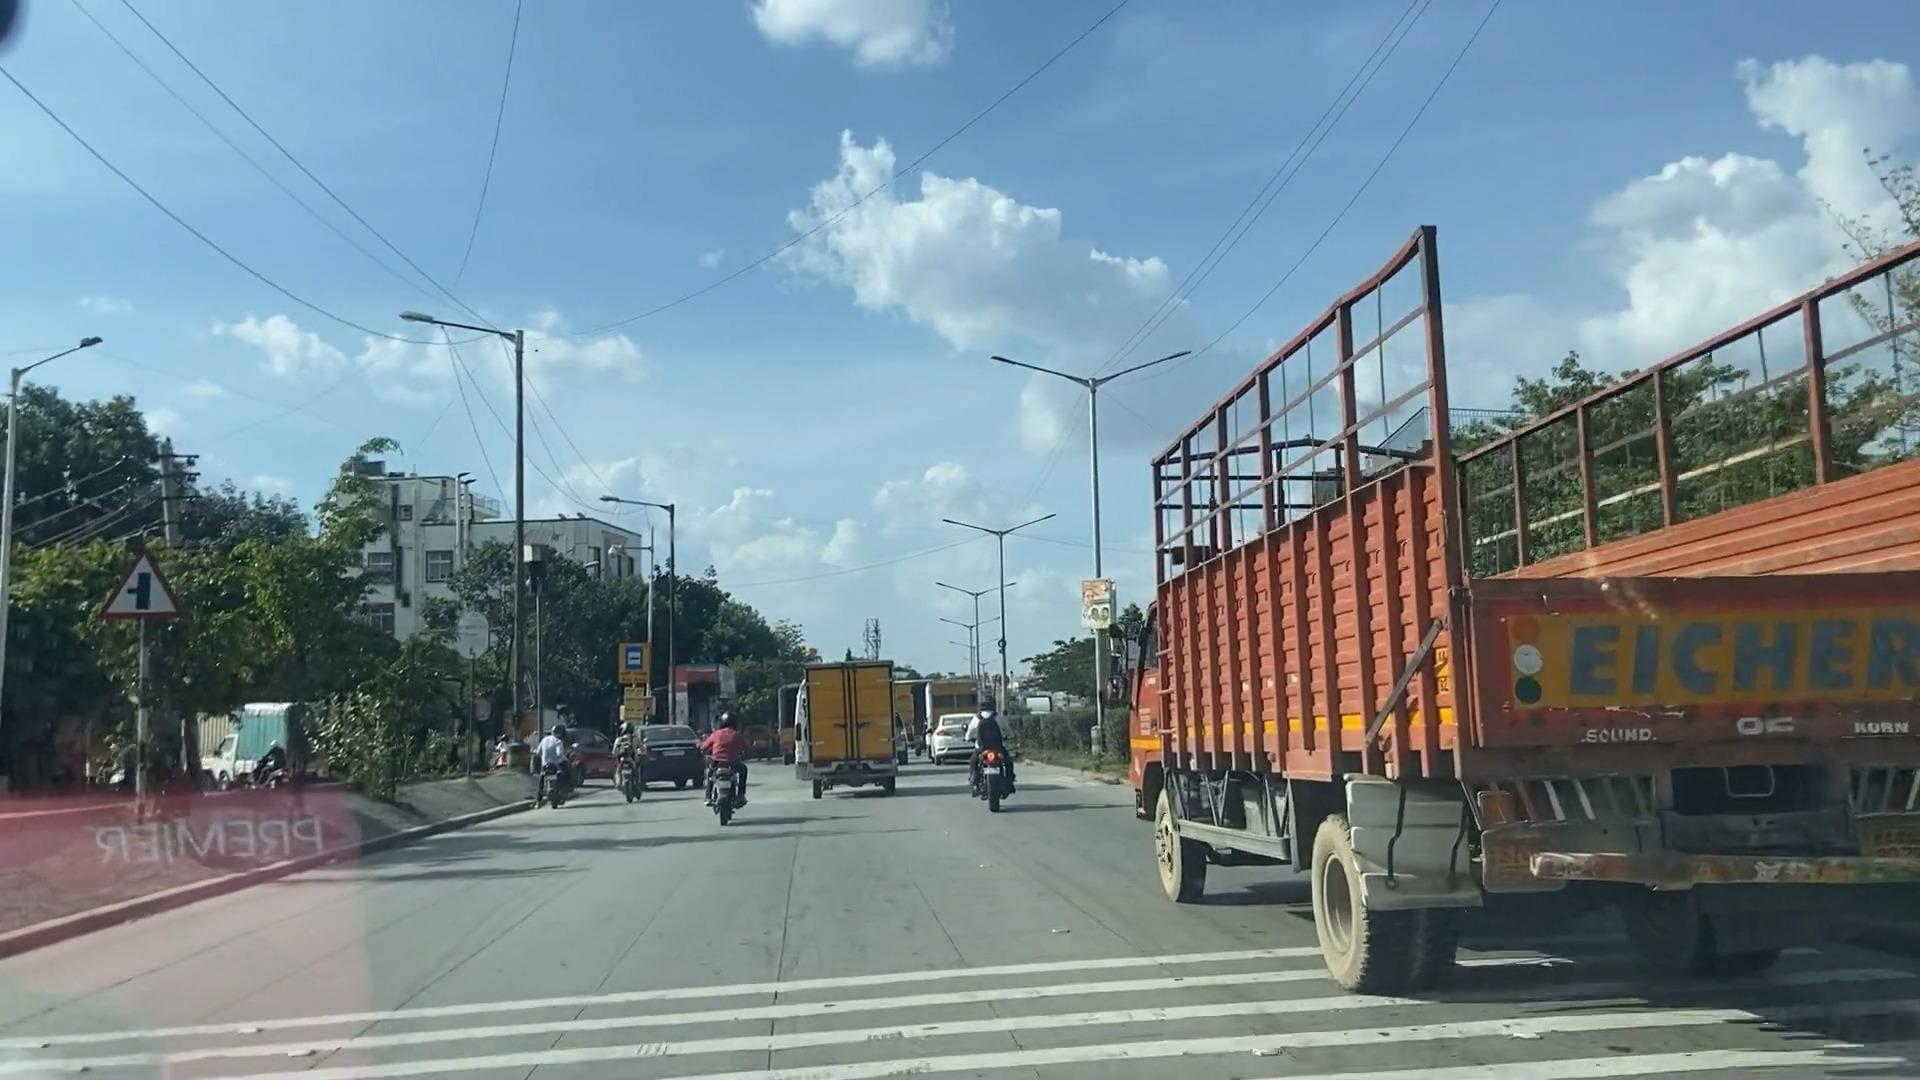HMV: (1125, 382, 1888, 1009), (786, 649, 909, 799)
LMV: (967, 695, 1021, 814), (700, 719, 746, 814)
